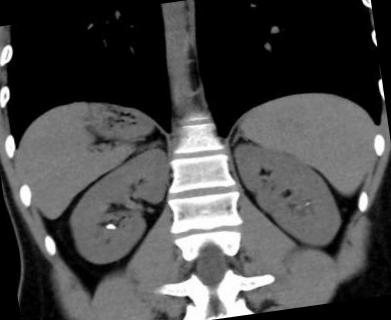Tas_Var: (302, 198, 316, 208), (104, 222, 116, 231)
